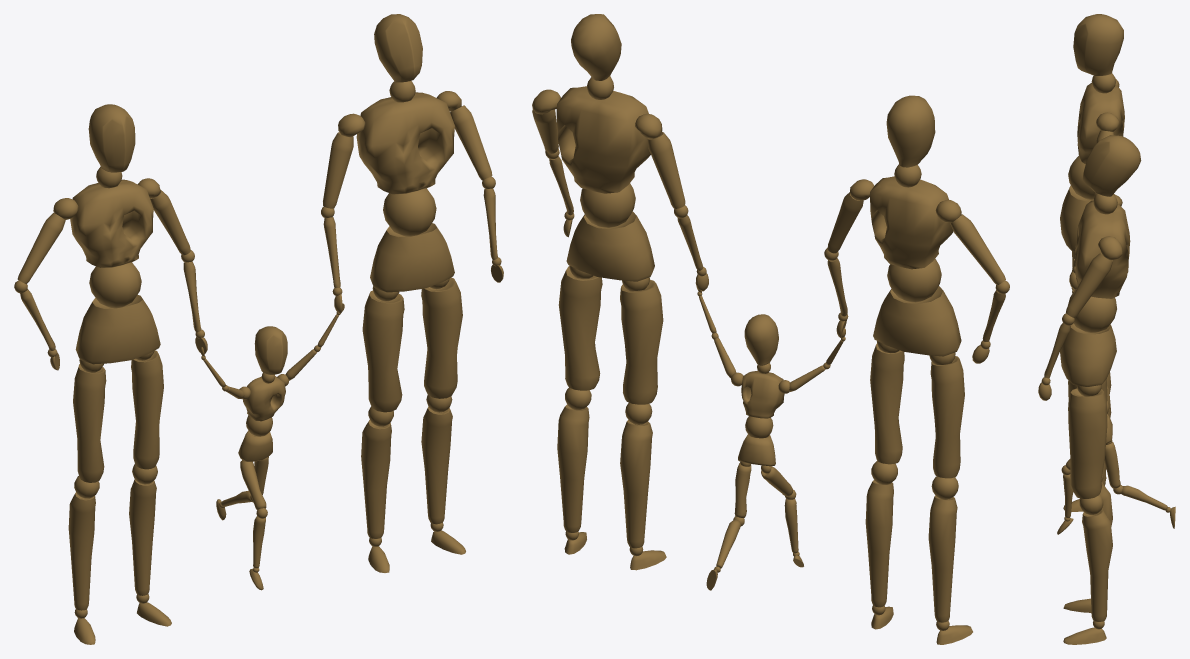
Rendered from Pose_1_1.fbx.
3 views of the same model, side by side, from view 1: azimuth 30°, elevation 25°; view 2: azimuth 150°, elevation 25°; view 3: azimuth 270°, elevation 25° (orthographic). The views are drawn at different scales.
Visible parts, largest first — view 1: dummy_obj.005, dummy_obj.003, dummy_obj.018; view 2: dummy_obj.005, dummy_obj.003, dummy_obj.018; view 3: dummy_obj.005, dummy_obj.003, dummy_obj.018.
Part boxes in pixels (bbox=[...]): dummy_obj.005: bbox=[321, 14, 503, 572]; dummy_obj.003: bbox=[14, 104, 207, 644]; dummy_obj.018: bbox=[200, 303, 344, 590]; dummy_obj.005: bbox=[532, 14, 708, 570]; dummy_obj.003: bbox=[824, 95, 1009, 644]; dummy_obj.018: bbox=[697, 289, 845, 590]; dummy_obj.005: bbox=[1038, 135, 1141, 644]; dummy_obj.003: bbox=[1060, 14, 1124, 511]; dummy_obj.018: bbox=[1057, 287, 1175, 534].
Size of the model in its own units: 167 by 182 by 46.5.
